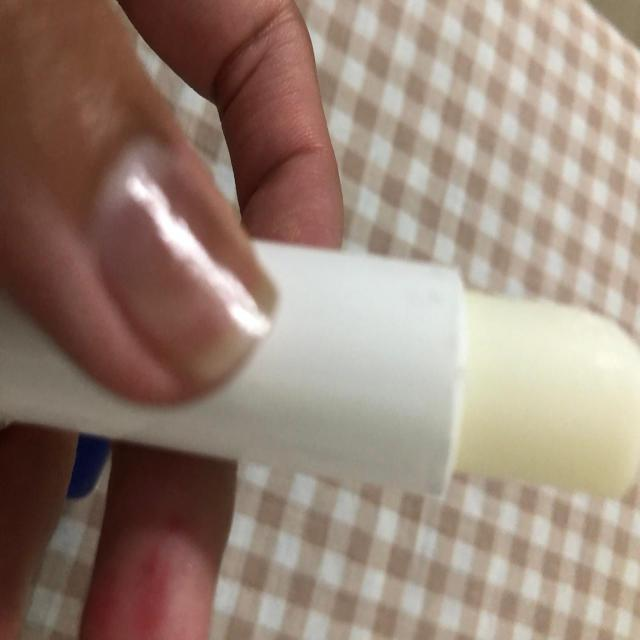concealer: (274, 203, 640, 516)
